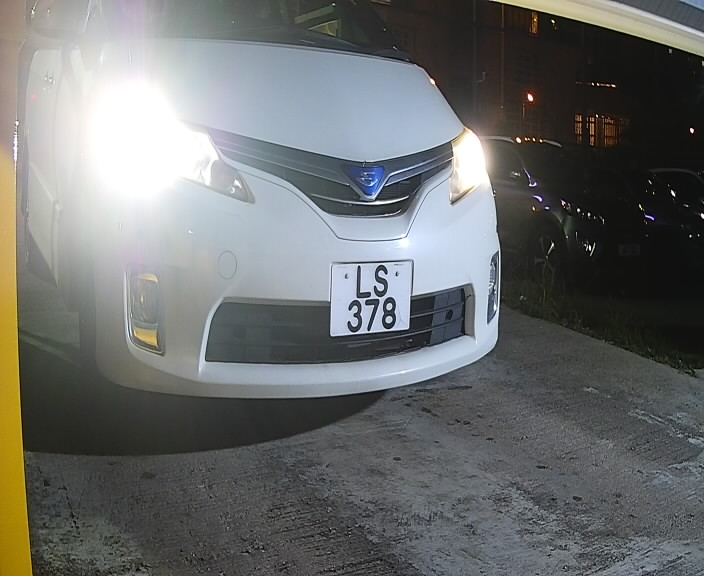Car: (2, 2, 505, 420)
License Plate: (324, 253, 421, 344)
